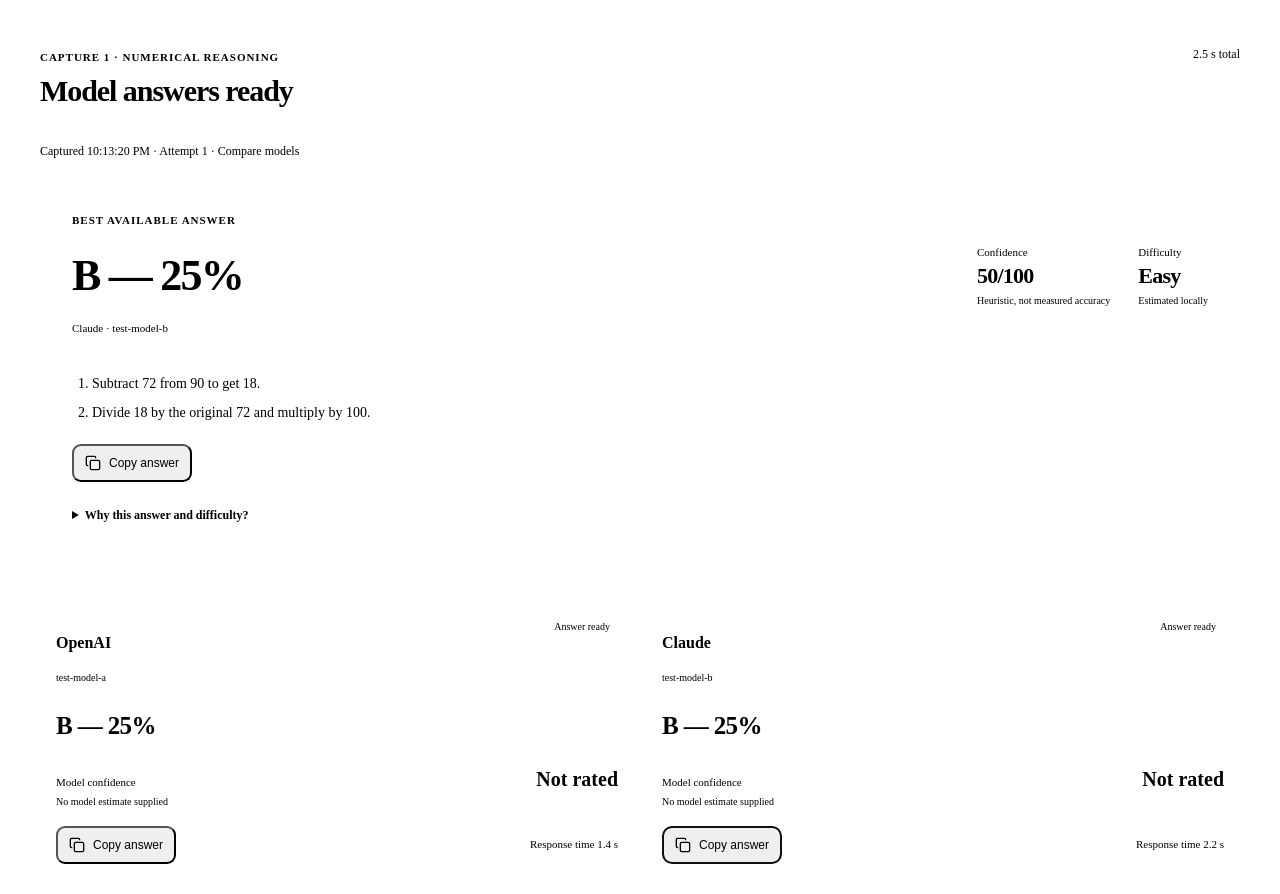
Test case: model comparison results › keeps copy focus while the clipboard write is pending and rejects duplicate activation
Later steps or results of the test are not shown.
What coordinates should you click on to do the following:
click the button with aria-label "Copy Claude answer"
I would click on:
 (722, 845)
Its box is [662,826,782,864].
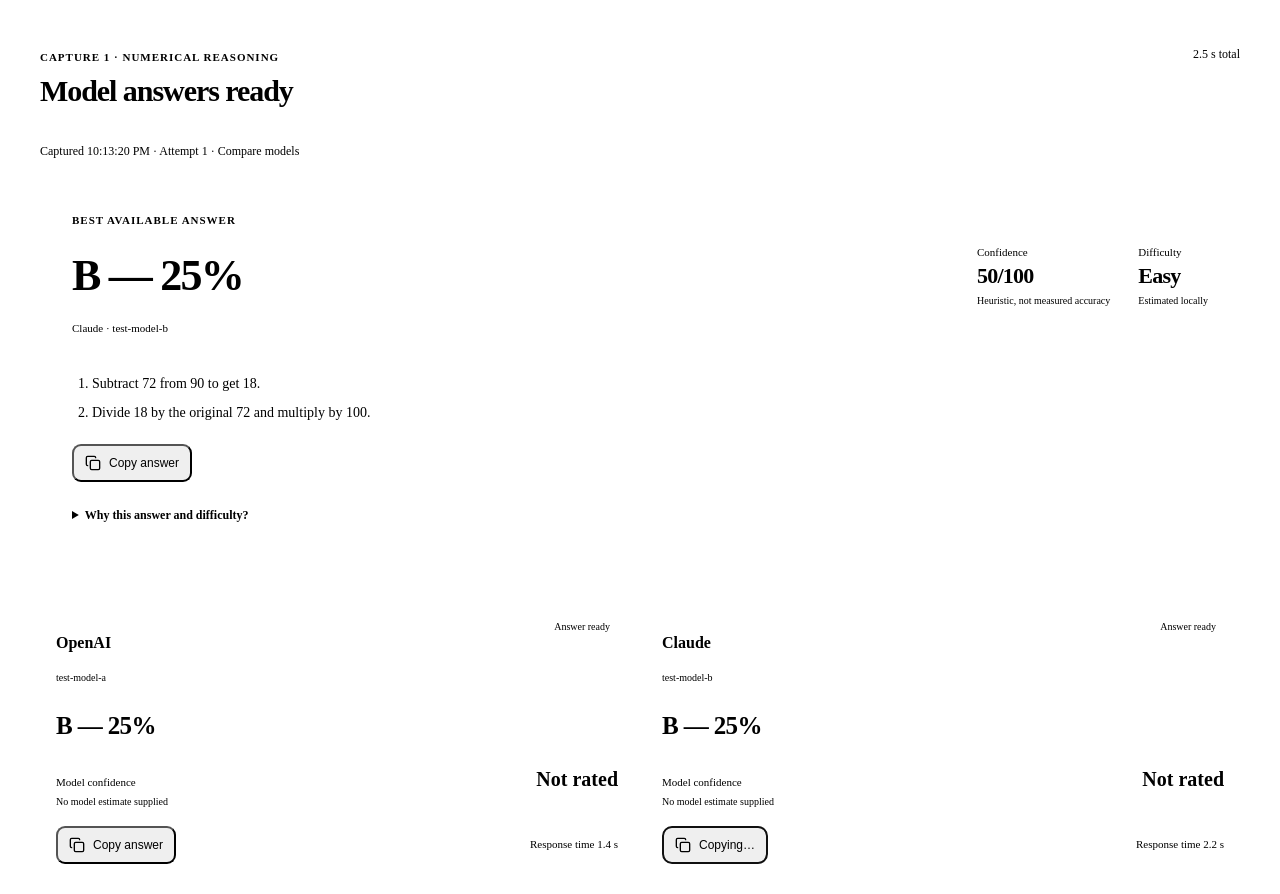
Now the button with aria-label "Copy Claude answer" is enabled
What coordinates should you click on to do the following:
click the button with aria-label "Copy Claude answer"
I would click on:
 (715, 845)
Its box is [662,826,768,864].
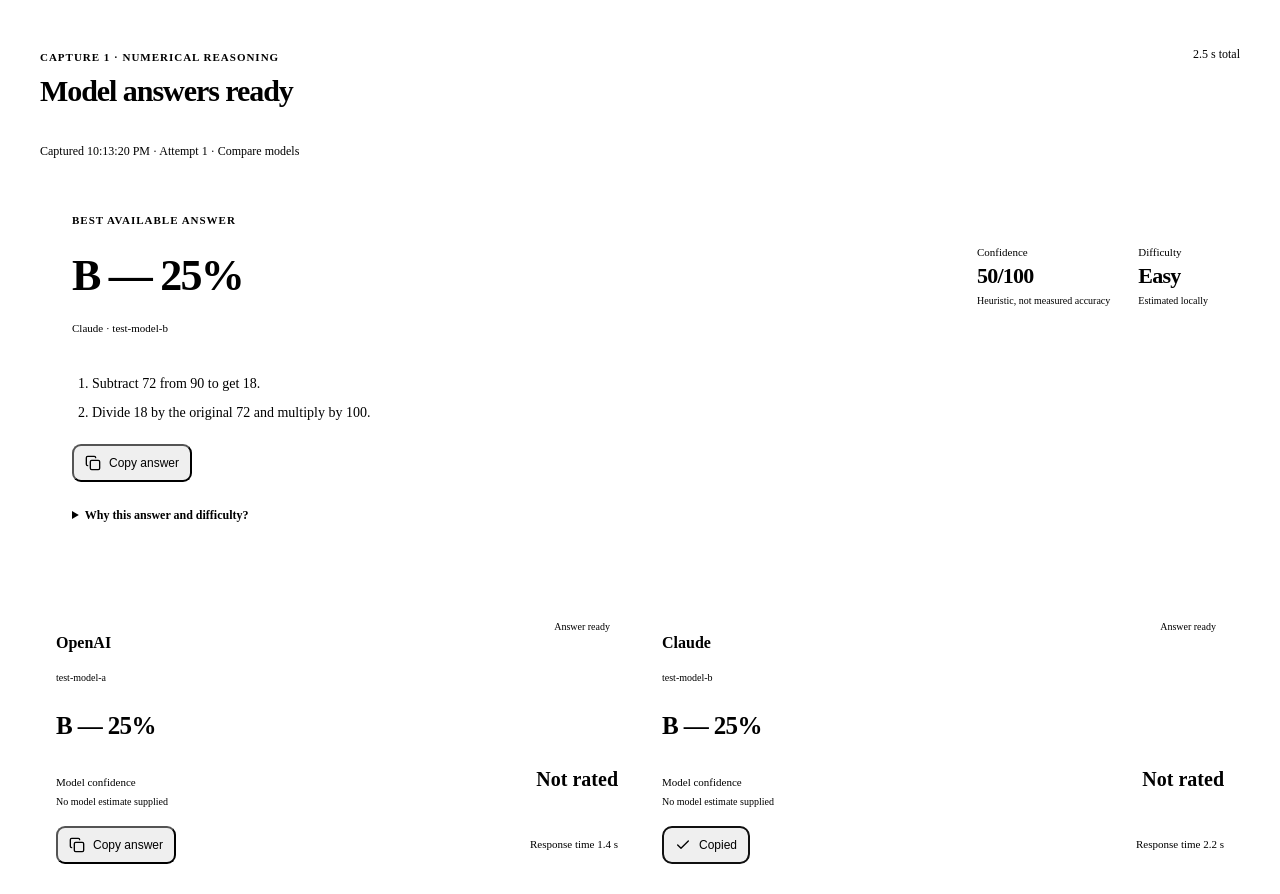
Now the button with aria-label "Claude answer copied" is enabled, box [662,826,750,864]
